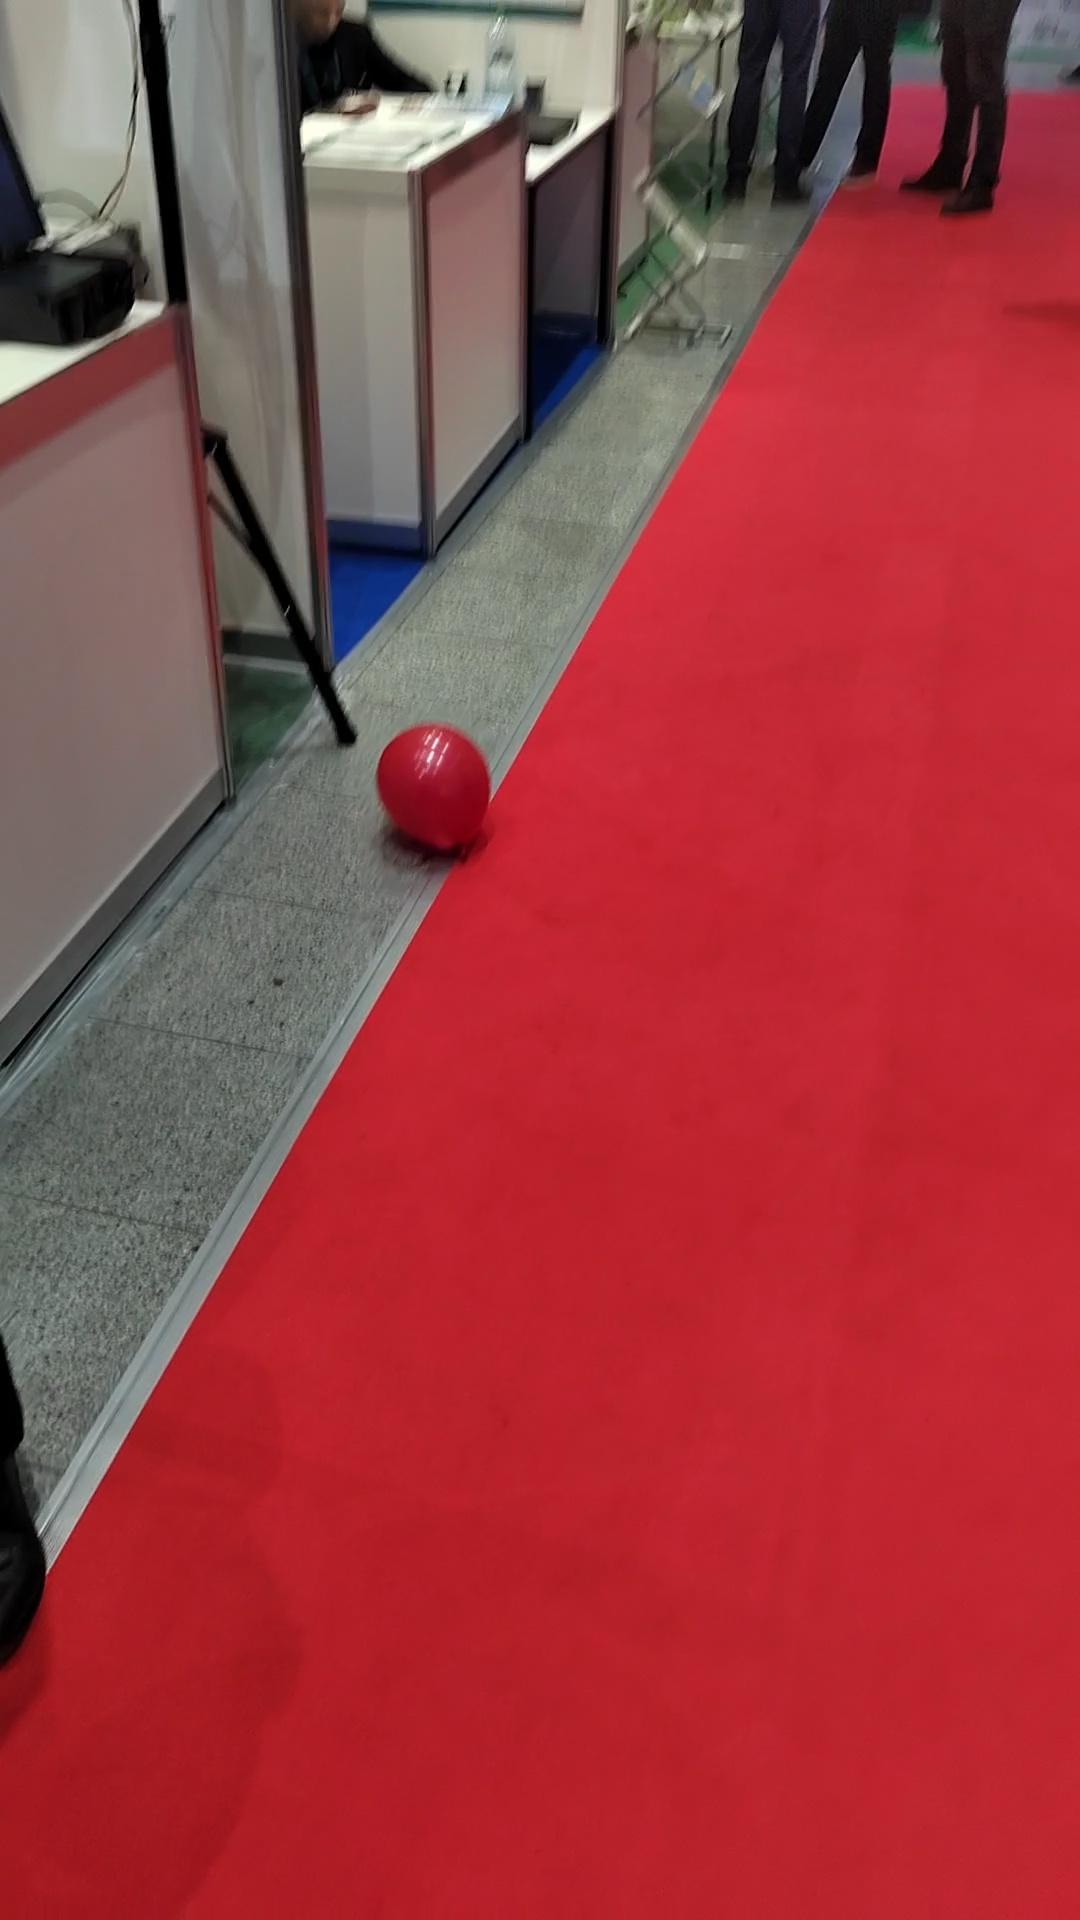red: (377, 717, 497, 865)
